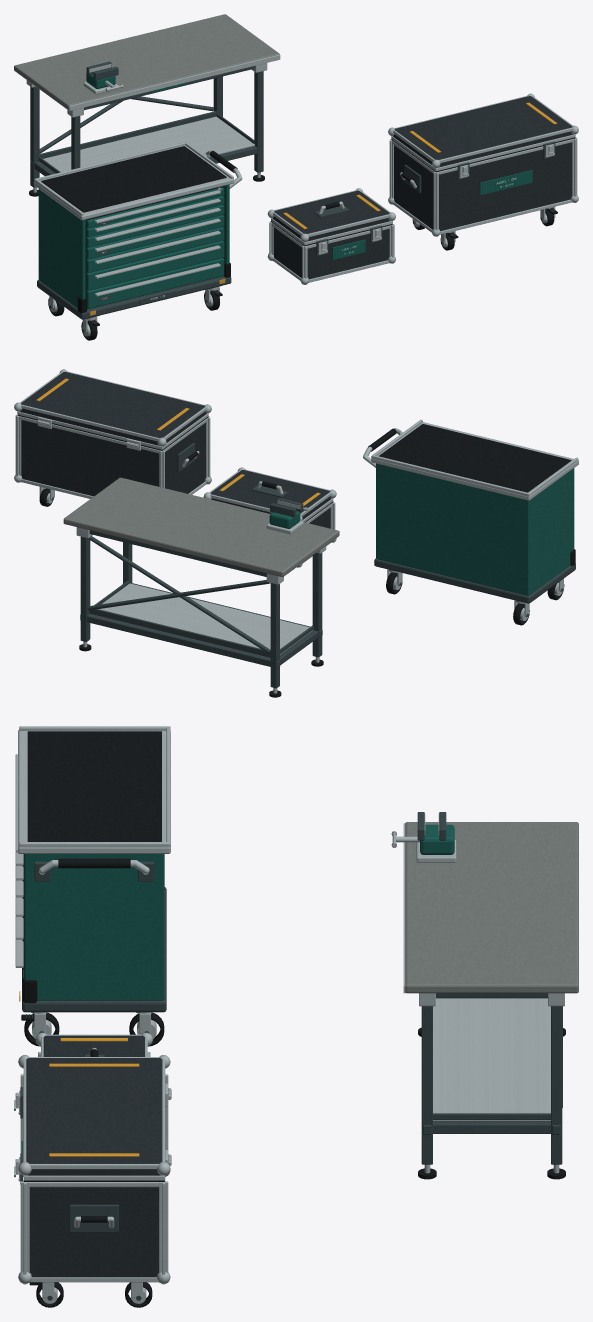
Rendered from aurel-workshop-equipment.glb.
The picture shows the model from 3 angles, top to bottom: view 1: azimuth 30°, elevation 25°; view 2: azimuth 150°, elevation 25°; view 3: azimuth 270°, elevation 25°; orthographic projection. The views are drawn at different scales.
Parts seen in each view (by area): view 1: A36_TOOL_CHEST_LOD0, A36_WORKBENCH_LOD0, A36_LARGE_CASE_LOD0, A36_MEDIUM_CASE_LOD0; view 2: A36_TOOL_CHEST_LOD0, A36_WORKBENCH_LOD0, A36_LARGE_CASE_LOD0, A36_MEDIUM_CASE_LOD0; view 3: A36_WORKBENCH_LOD0, A36_TOOL_CHEST_LOD0, A36_LARGE_CASE_LOD0, A36_MEDIUM_CASE_LOD0.
Part boxes in pixels (x1,y1,x2,y2): A36_TOOL_CHEST_LOD0: [34, 142, 242, 340]; A36_WORKBENCH_LOD0: [14, 14, 280, 196]; A36_LARGE_CASE_LOD0: [388, 93, 578, 250]; A36_MEDIUM_CASE_LOD0: [267, 188, 395, 284]; A36_TOOL_CHEST_LOD0: [363, 419, 578, 625]; A36_WORKBENCH_LOD0: [63, 477, 339, 697]; A36_LARGE_CASE_LOD0: [14, 369, 211, 506]; A36_MEDIUM_CASE_LOD0: [203, 467, 336, 567]; A36_WORKBENCH_LOD0: [391, 812, 578, 1179]; A36_TOOL_CHEST_LOD0: [15, 726, 170, 1046]; A36_LARGE_CASE_LOD0: [14, 1055, 171, 1307]; A36_MEDIUM_CASE_LOD0: [35, 1032, 152, 1056].
Size of what is drawn, in the model's own units: 3.82 by 1.08 by 2.34.
Materials: 1 (1 with a texture image).
